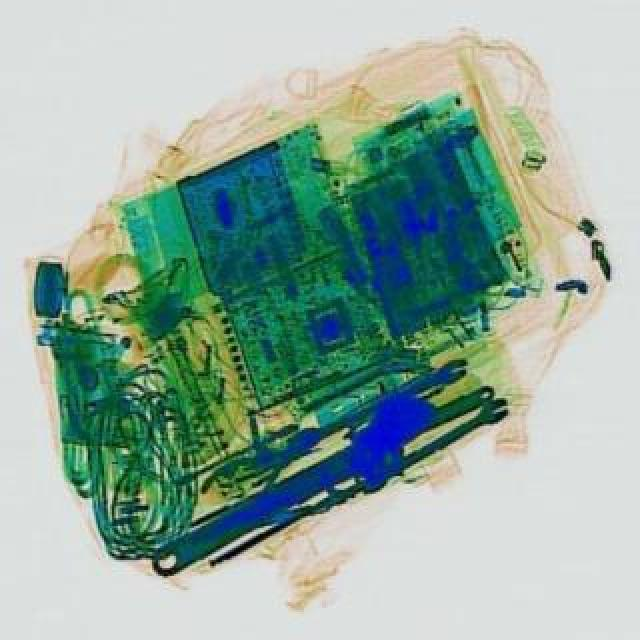scissors: (144, 420, 398, 578), (284, 350, 472, 452), (358, 392, 514, 492)
wrench: (194, 408, 330, 516)
